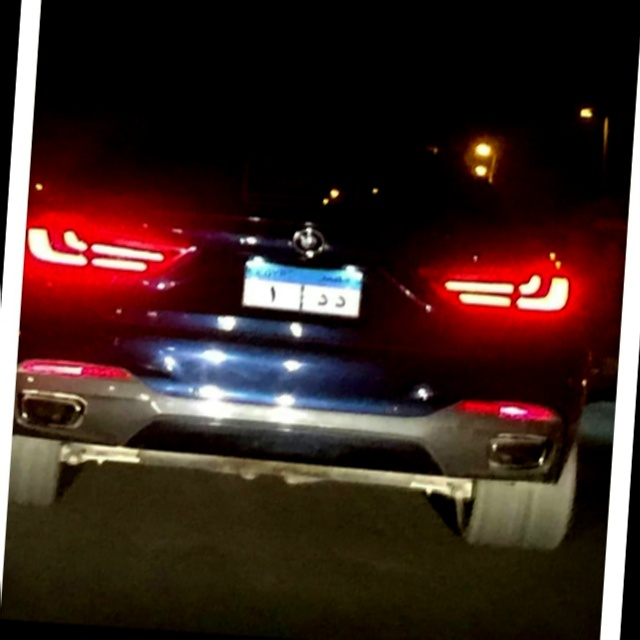License Plate: (236, 257, 367, 321)
